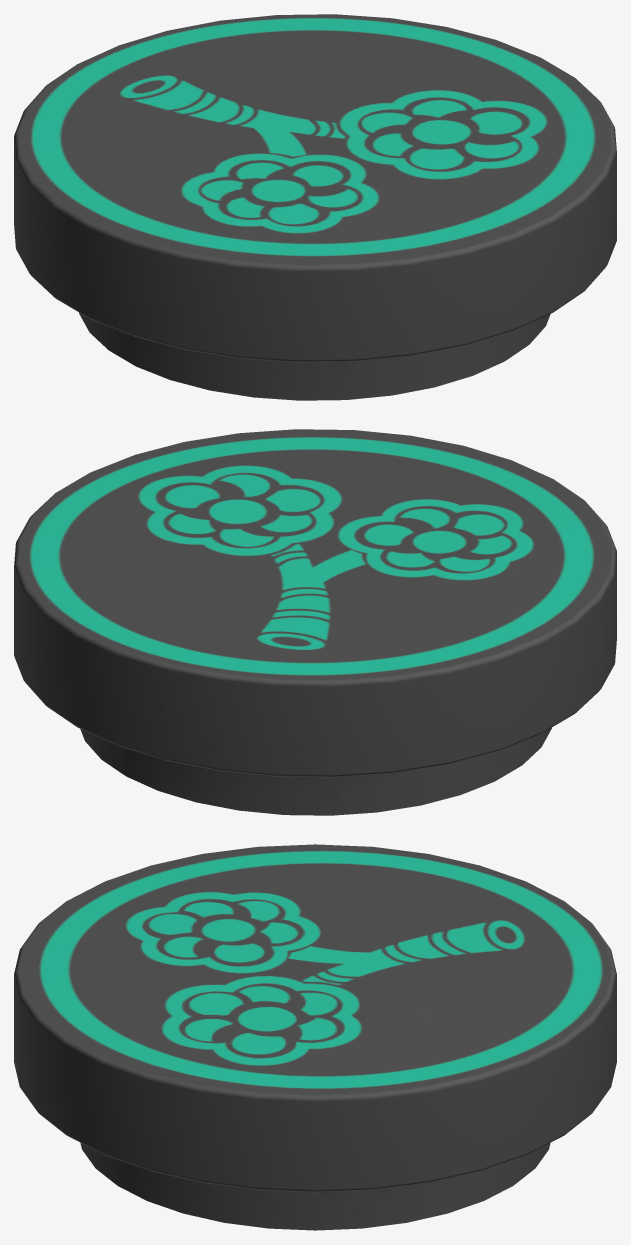
File: PROP_Button01.FBX
The picture shows the model from 3 angles, top to bottom: view 1: azimuth 30°, elevation 25°; view 2: azimuth 150°, elevation 25°; view 3: azimuth 270°, elevation 25°; orthographic projection.
Visible parts, largest first — view 1: PROP_Button01; view 2: PROP_Button01; view 3: PROP_Button01.
Boxes of the visible parts, x1=… form: PROP_Button01: x1=14, y1=14, x2=616, y2=400; PROP_Button01: x1=14, y1=429, x2=616, y2=815; PROP_Button01: x1=14, y1=844, x2=616, y2=1230.
Bounding box in the file's own units: 7.64 × 2.24 × 7.64.
